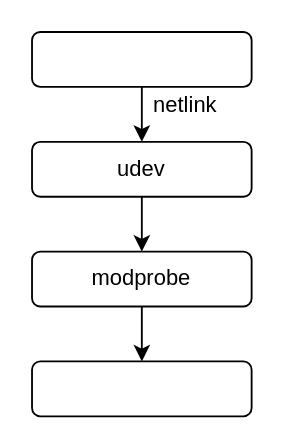
Image size: 284x448. Some labels were removed from this diagram. Here are the shapes that lost their labels. From the top down, the box of each, then its label:
(30, 30, 252, 87): Linux Kernel
(30, 360, 252, 416): modules
